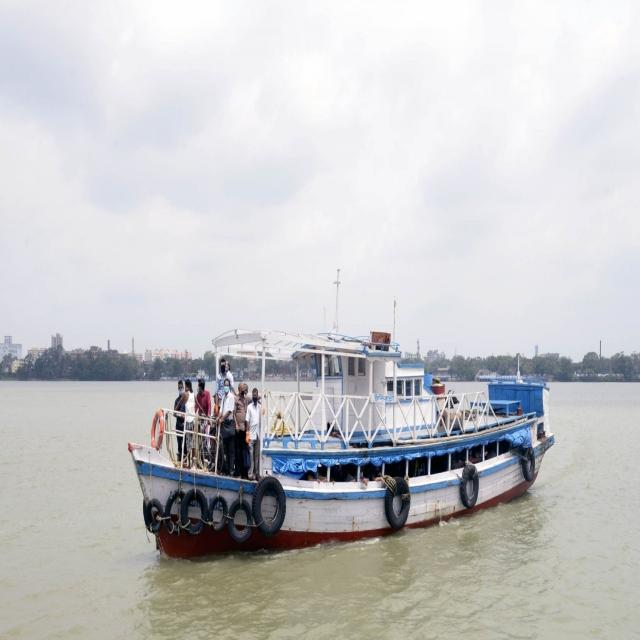fishing boat: (135, 320, 555, 546)
